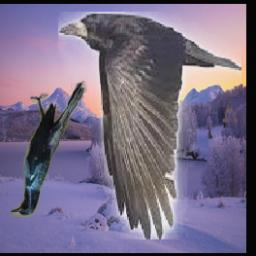Crow: (57, 12, 240, 239), (10, 81, 86, 217)
